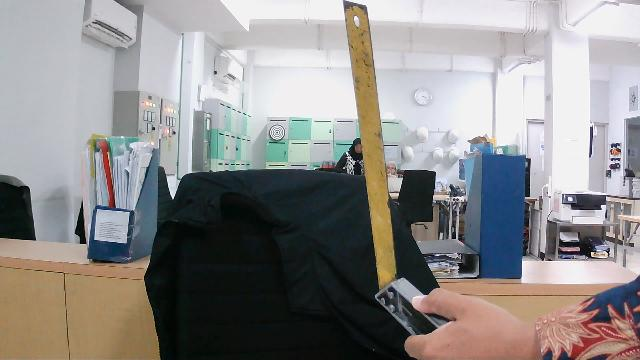penggaris_siku: (322, 0, 479, 342)
